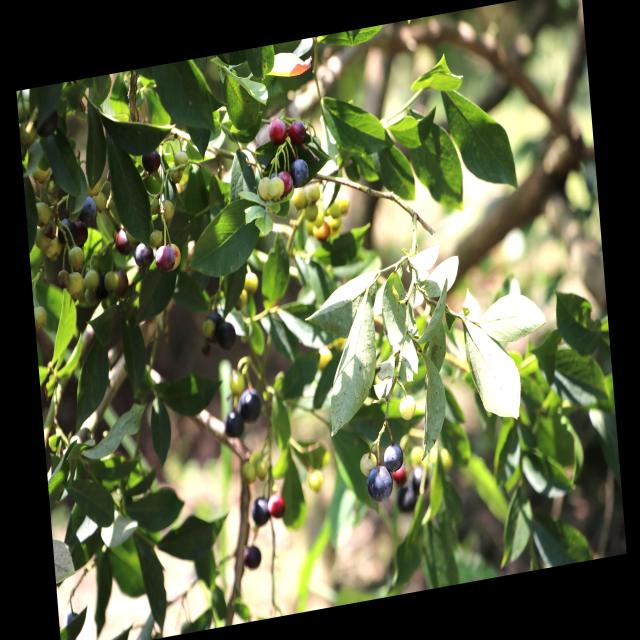blueberry: (362, 464, 397, 506), (235, 385, 267, 427), (381, 437, 405, 475), (250, 491, 271, 529), (77, 192, 101, 225), (153, 243, 176, 275), (289, 156, 310, 188), (139, 145, 162, 174), (224, 411, 244, 443), (244, 540, 263, 570), (133, 240, 154, 266)
blueberry-halfripe: (264, 490, 287, 526), (266, 115, 287, 144), (288, 119, 307, 146), (276, 169, 294, 197)
blueberry-unripe: (398, 393, 418, 424), (256, 175, 275, 203), (64, 269, 83, 297), (266, 174, 286, 200), (43, 235, 63, 261), (290, 184, 308, 212), (33, 226, 51, 252), (311, 219, 332, 241), (172, 148, 190, 173), (160, 198, 176, 226), (33, 202, 52, 225), (334, 190, 350, 217), (303, 180, 320, 205), (148, 226, 166, 248), (34, 304, 48, 332), (68, 245, 85, 268), (243, 270, 259, 294), (103, 270, 122, 290), (232, 289, 248, 311), (32, 167, 51, 185), (85, 267, 99, 291), (168, 164, 184, 184), (304, 203, 318, 221), (58, 269, 68, 284)
